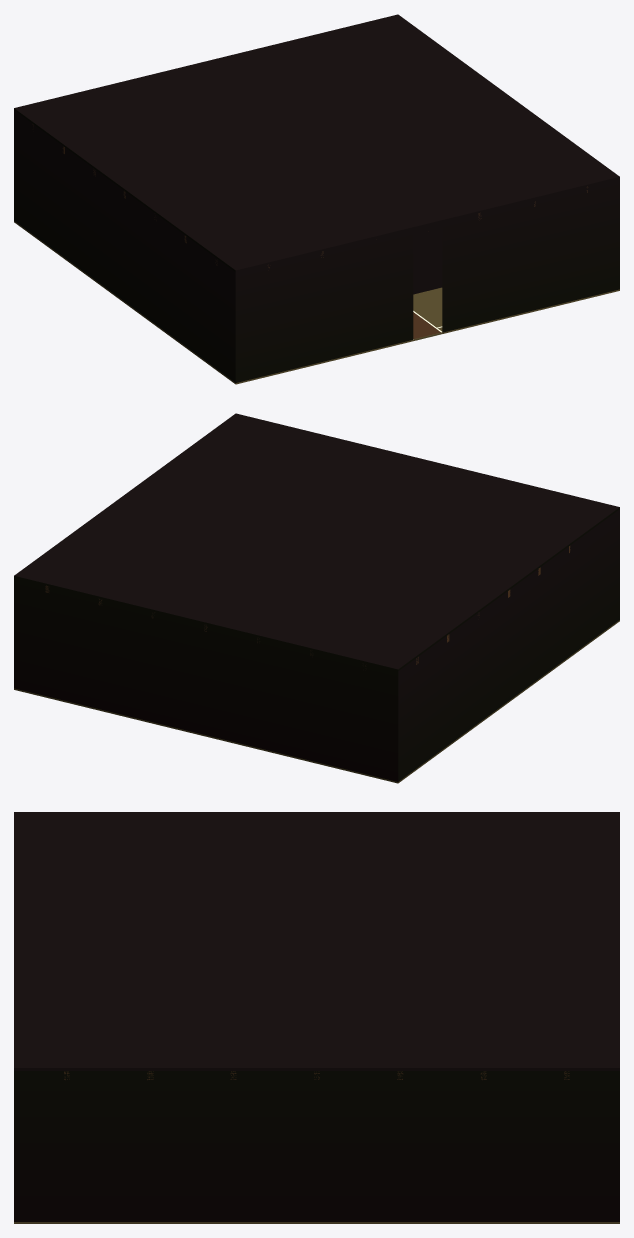
Rendered from shaddai_hall_quill_v01.glb.
3 renders of one model, top to bottom at view 1: azimuth 30°, elevation 25°; view 2: azimuth 150°, elevation 25°; view 3: azimuth 270°, elevation 25°, orthographic. The views are drawn at different scales.
Visible parts, largest first — view 1: shaddai_hall_quill; view 2: shaddai_hall_quill; view 3: shaddai_hall_quill.
Boxes of the visible parts, x1=… form: shaddai_hall_quill: x1=14, y1=14, x2=619, y2=384; shaddai_hall_quill: x1=14, y1=413, x2=619, y2=783; shaddai_hall_quill: x1=14, y1=812, x2=619, y2=1223.
Bounding box in the file's own units: 80 × 22.7 × 80.
